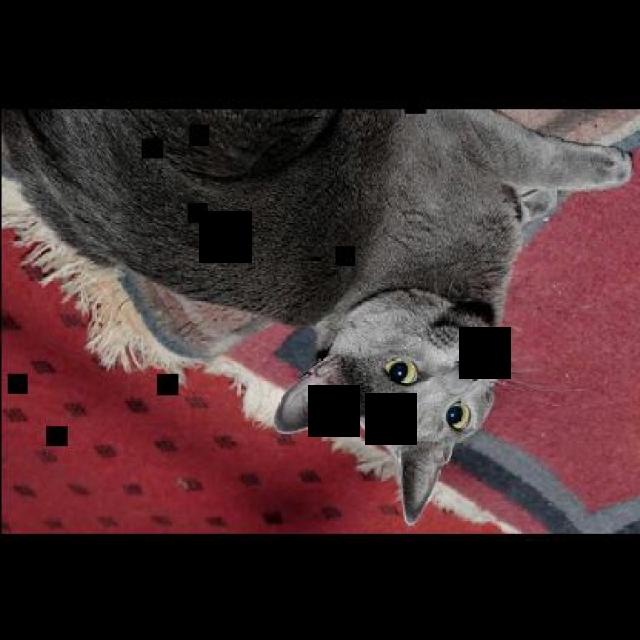unauthorized: (0, 106, 635, 526)
